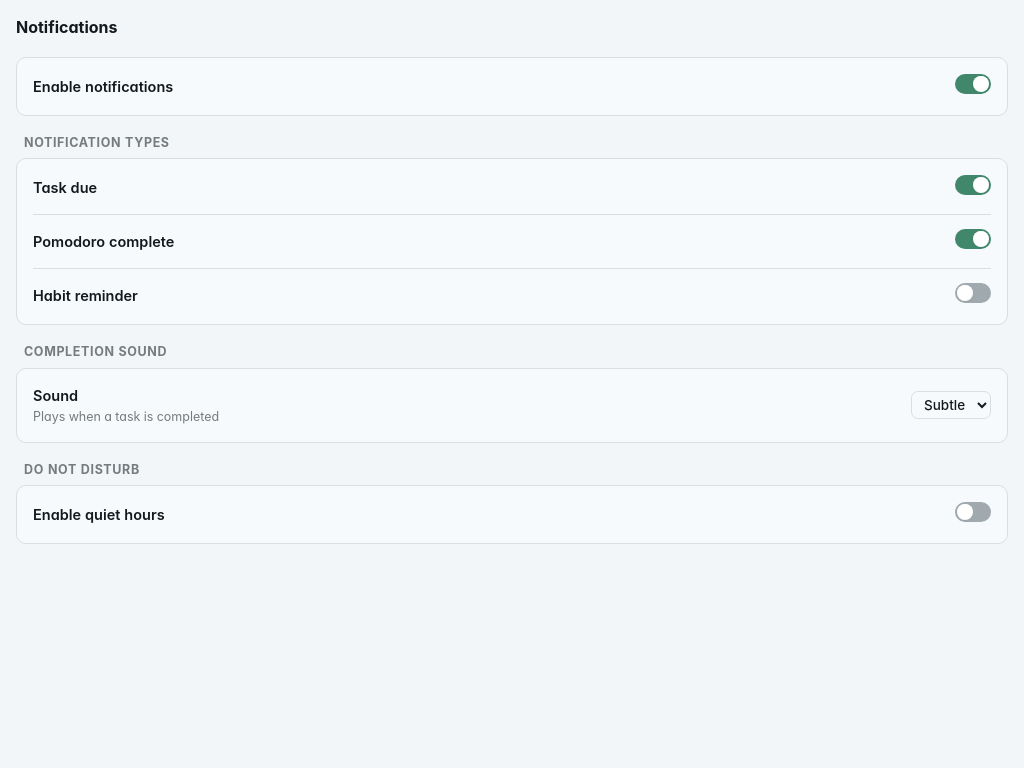
notificationsPane › NF5: enabling quiet hours shows time inputs
Click the switch named "Enable quiet hours" at (973, 512), box [955,502,991,522]
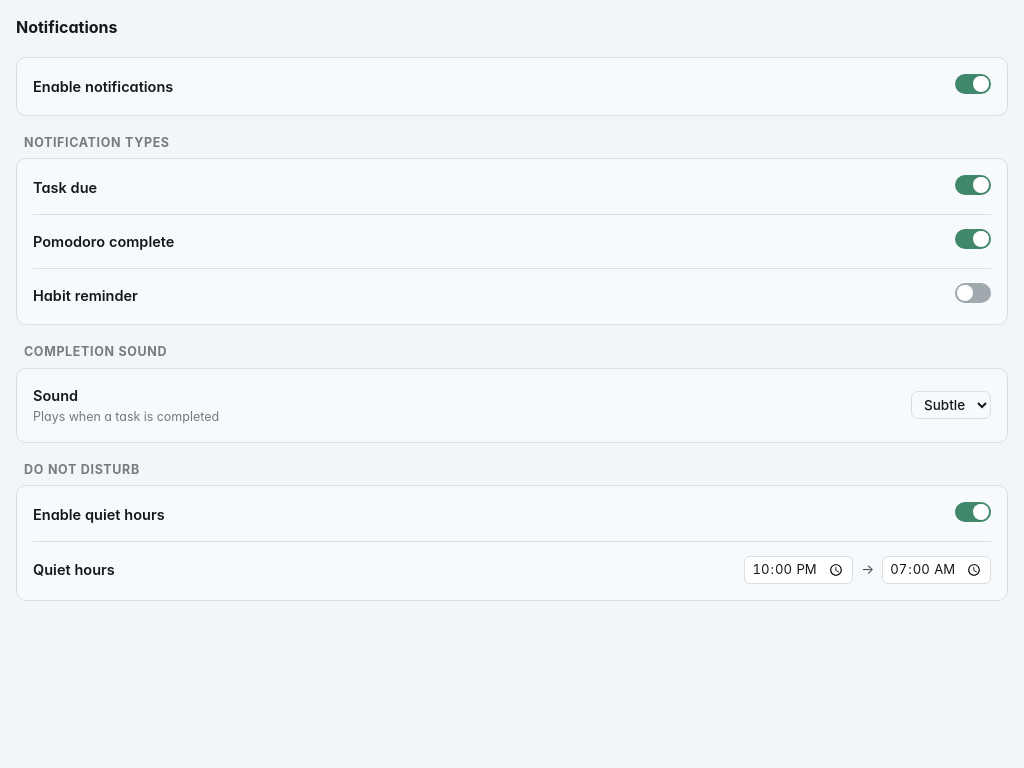
Check: the number of time fields is 2, box [744,556,853,584]; [882,556,991,584]
